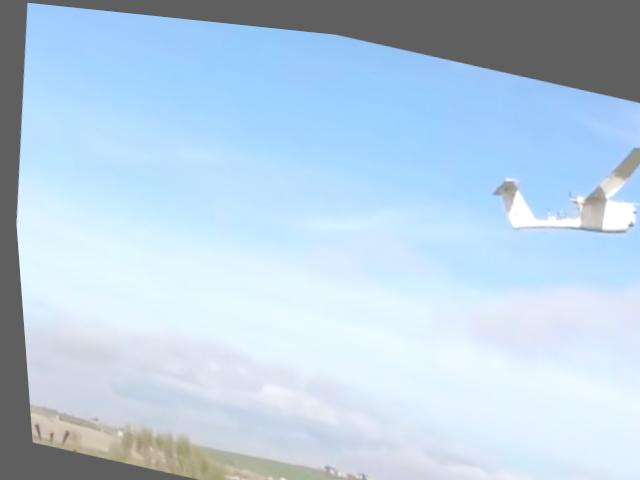iha: (474, 96, 640, 255)
